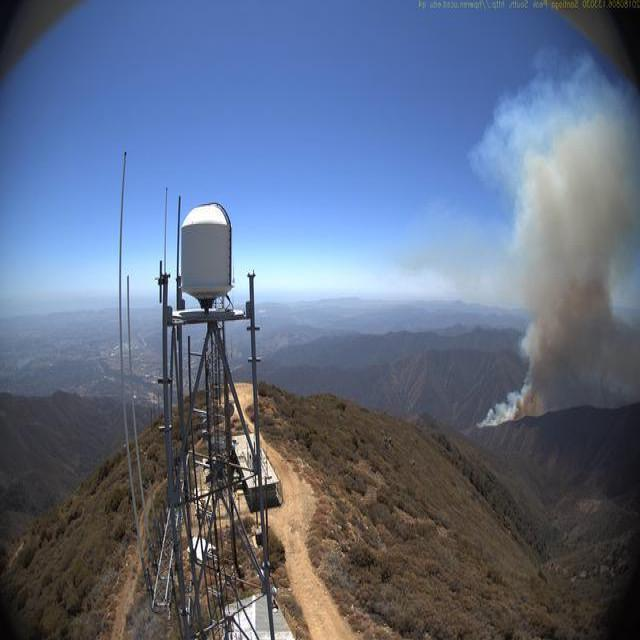Smoke: (477, 88, 634, 430)
